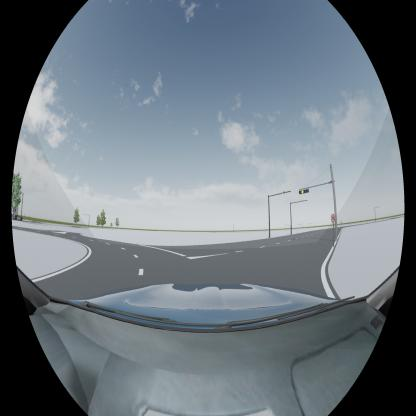Green Light: (282, 191, 286, 194), (301, 200, 304, 202)
Speed Limit 100: (331, 214, 335, 223)
